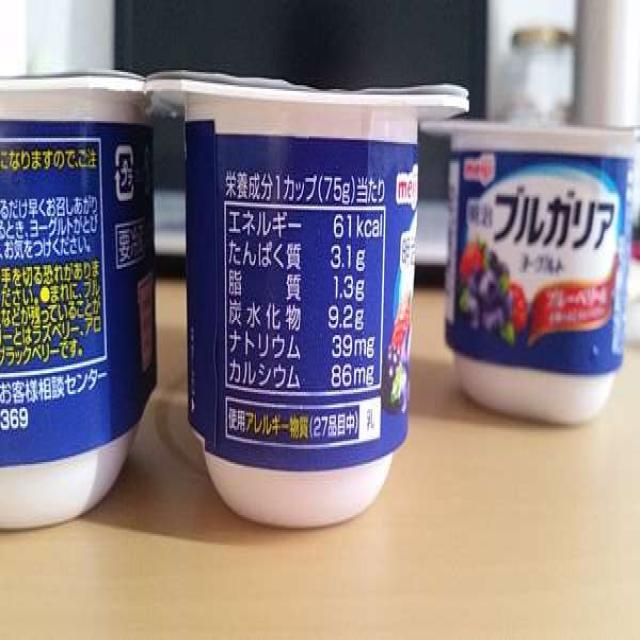plastic: (155, 57, 466, 528), (0, 61, 171, 530), (435, 102, 640, 425)
